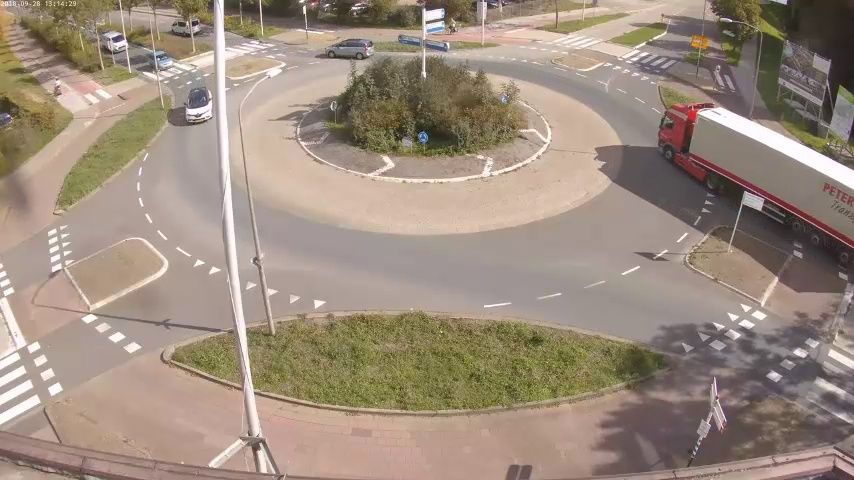bicycle: (46, 76, 65, 104)
car: (321, 35, 375, 64), (183, 87, 212, 129), (102, 27, 127, 51), (169, 16, 199, 36), (147, 49, 172, 70)
truck: (653, 101, 854, 285)
